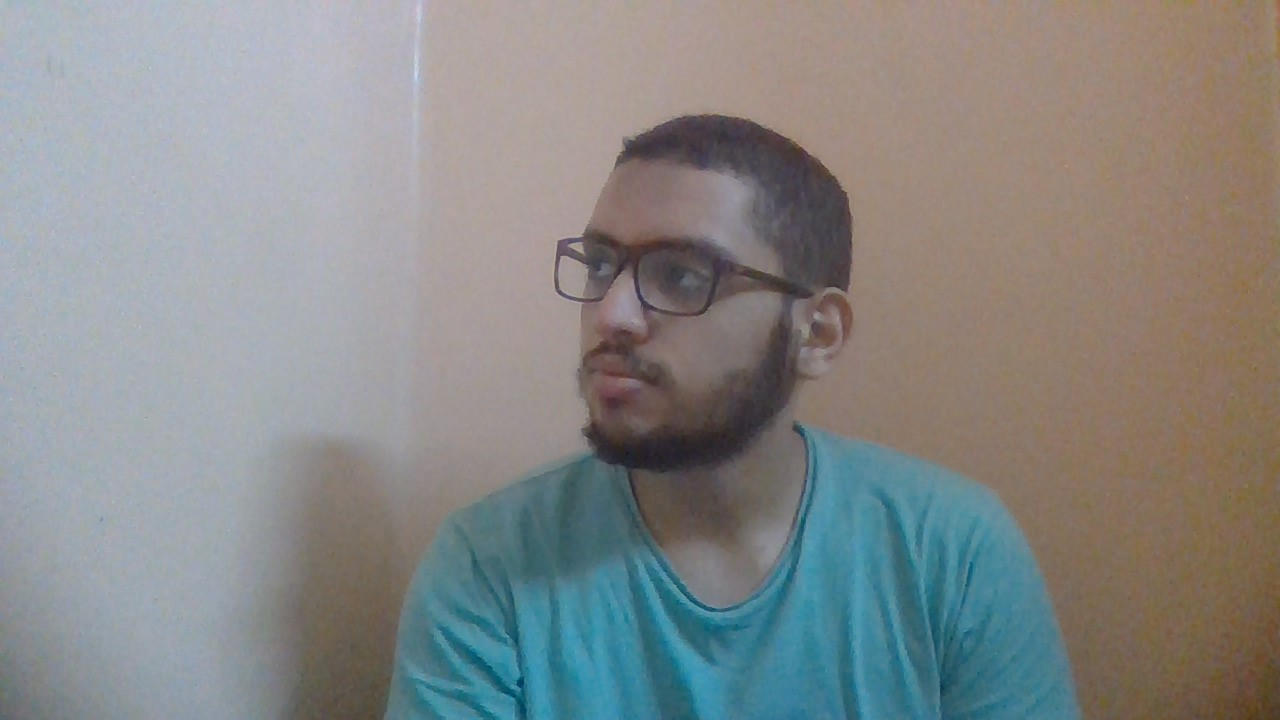Nomask: (578, 307, 828, 474)
